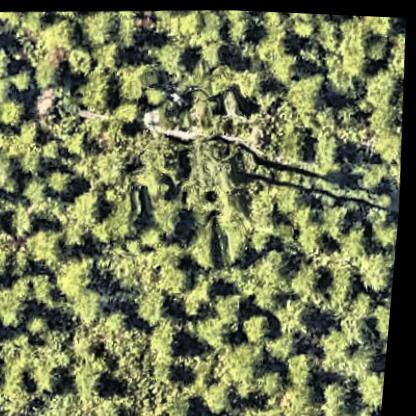tree-top: (219, 339, 274, 390), (51, 251, 102, 301), (97, 194, 148, 244), (281, 69, 330, 119), (247, 243, 297, 290), (135, 123, 181, 173), (354, 244, 400, 293), (69, 357, 116, 404), (146, 191, 192, 237), (87, 141, 133, 187), (108, 60, 155, 105), (0, 282, 42, 332), (319, 322, 364, 368), (74, 278, 113, 331), (274, 294, 322, 337), (66, 188, 111, 233), (24, 224, 69, 269), (72, 71, 117, 116), (35, 13, 81, 56), (258, 43, 305, 85), (280, 377, 330, 416), (135, 284, 178, 329), (193, 310, 238, 353), (217, 221, 258, 267), (75, 9, 119, 51), (305, 129, 349, 171), (355, 362, 392, 410), (322, 374, 363, 416), (148, 37, 189, 79), (156, 257, 199, 297), (326, 261, 365, 305), (203, 374, 243, 415), (334, 36, 374, 77), (31, 358, 73, 397), (284, 349, 323, 391), (360, 62, 401, 101), (242, 308, 282, 347), (367, 121, 405, 162), (218, 8, 257, 47), (292, 259, 332, 297), (180, 279, 218, 319), (214, 287, 252, 326), (6, 203, 44, 242), (232, 63, 270, 101), (58, 43, 97, 80), (106, 10, 143, 49), (27, 53, 64, 91), (382, 26, 408, 78), (89, 37, 126, 73), (149, 321, 186, 356), (371, 293, 396, 344), (310, 13, 344, 50), (337, 218, 371, 255), (42, 165, 79, 198), (0, 93, 31, 132), (250, 9, 289, 40), (265, 328, 301, 361), (108, 97, 144, 130), (275, 129, 313, 159), (20, 175, 53, 209), (355, 12, 399, 37), (0, 152, 26, 193), (372, 216, 402, 249), (9, 67, 37, 97), (244, 400, 290, 416), (0, 50, 16, 85), (0, 299, 5, 346)
